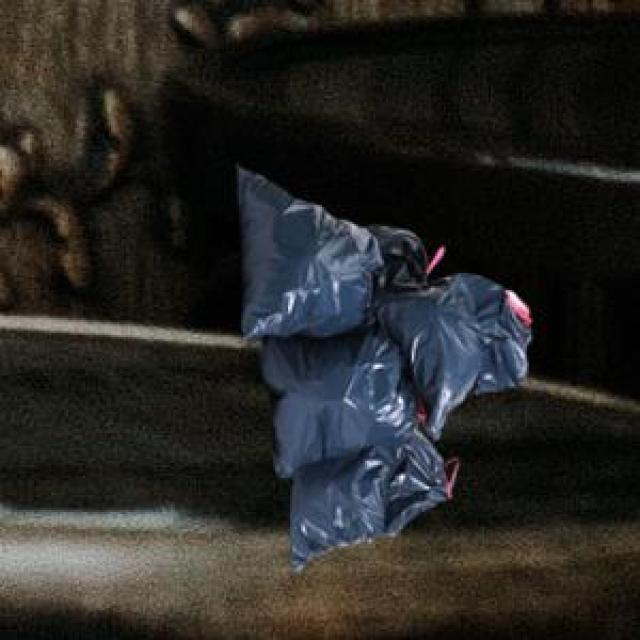miscellaneous trash: (233, 162, 527, 568)
